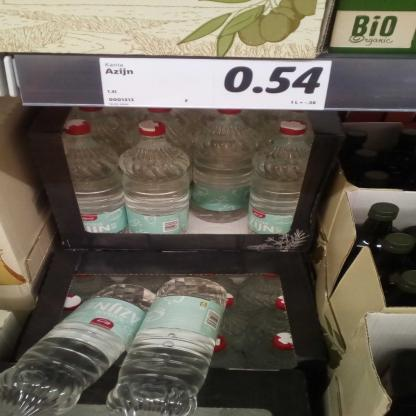prtg: (101, 58, 334, 111)
